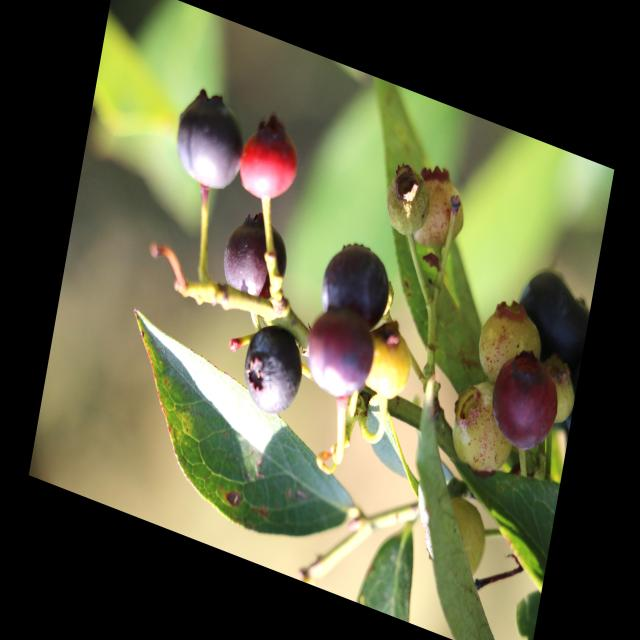blueberry: (162, 70, 258, 204), (312, 223, 402, 341), (215, 197, 300, 315), (233, 309, 314, 430)
blueberry-halfripe: (483, 344, 565, 462), (302, 300, 378, 406), (236, 118, 305, 216)
blueberry-unripe: (446, 378, 517, 486), (470, 295, 540, 391), (408, 162, 468, 259), (439, 491, 494, 581), (360, 326, 416, 408), (383, 166, 434, 243)
